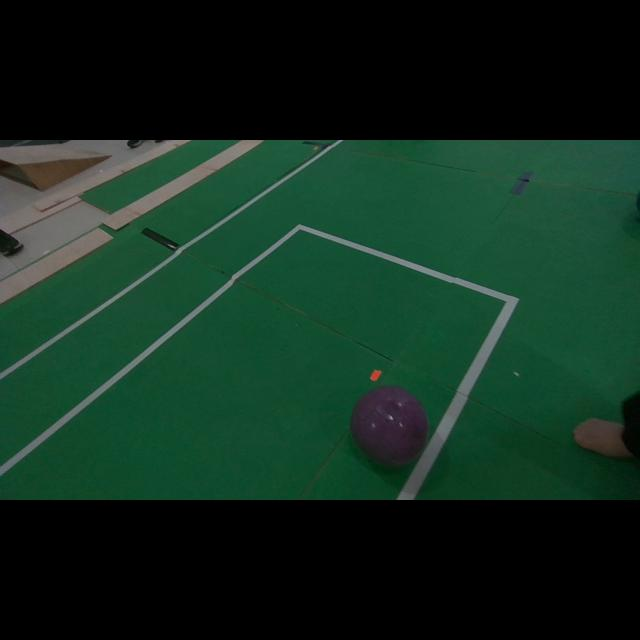P: (350, 386, 429, 466)
